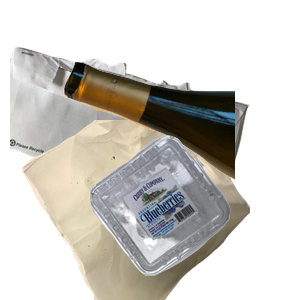glass: (60, 59, 300, 231)
paper: (10, 45, 250, 225)
plastic: (88, 133, 300, 300)
trash: (20, 120, 260, 300)
